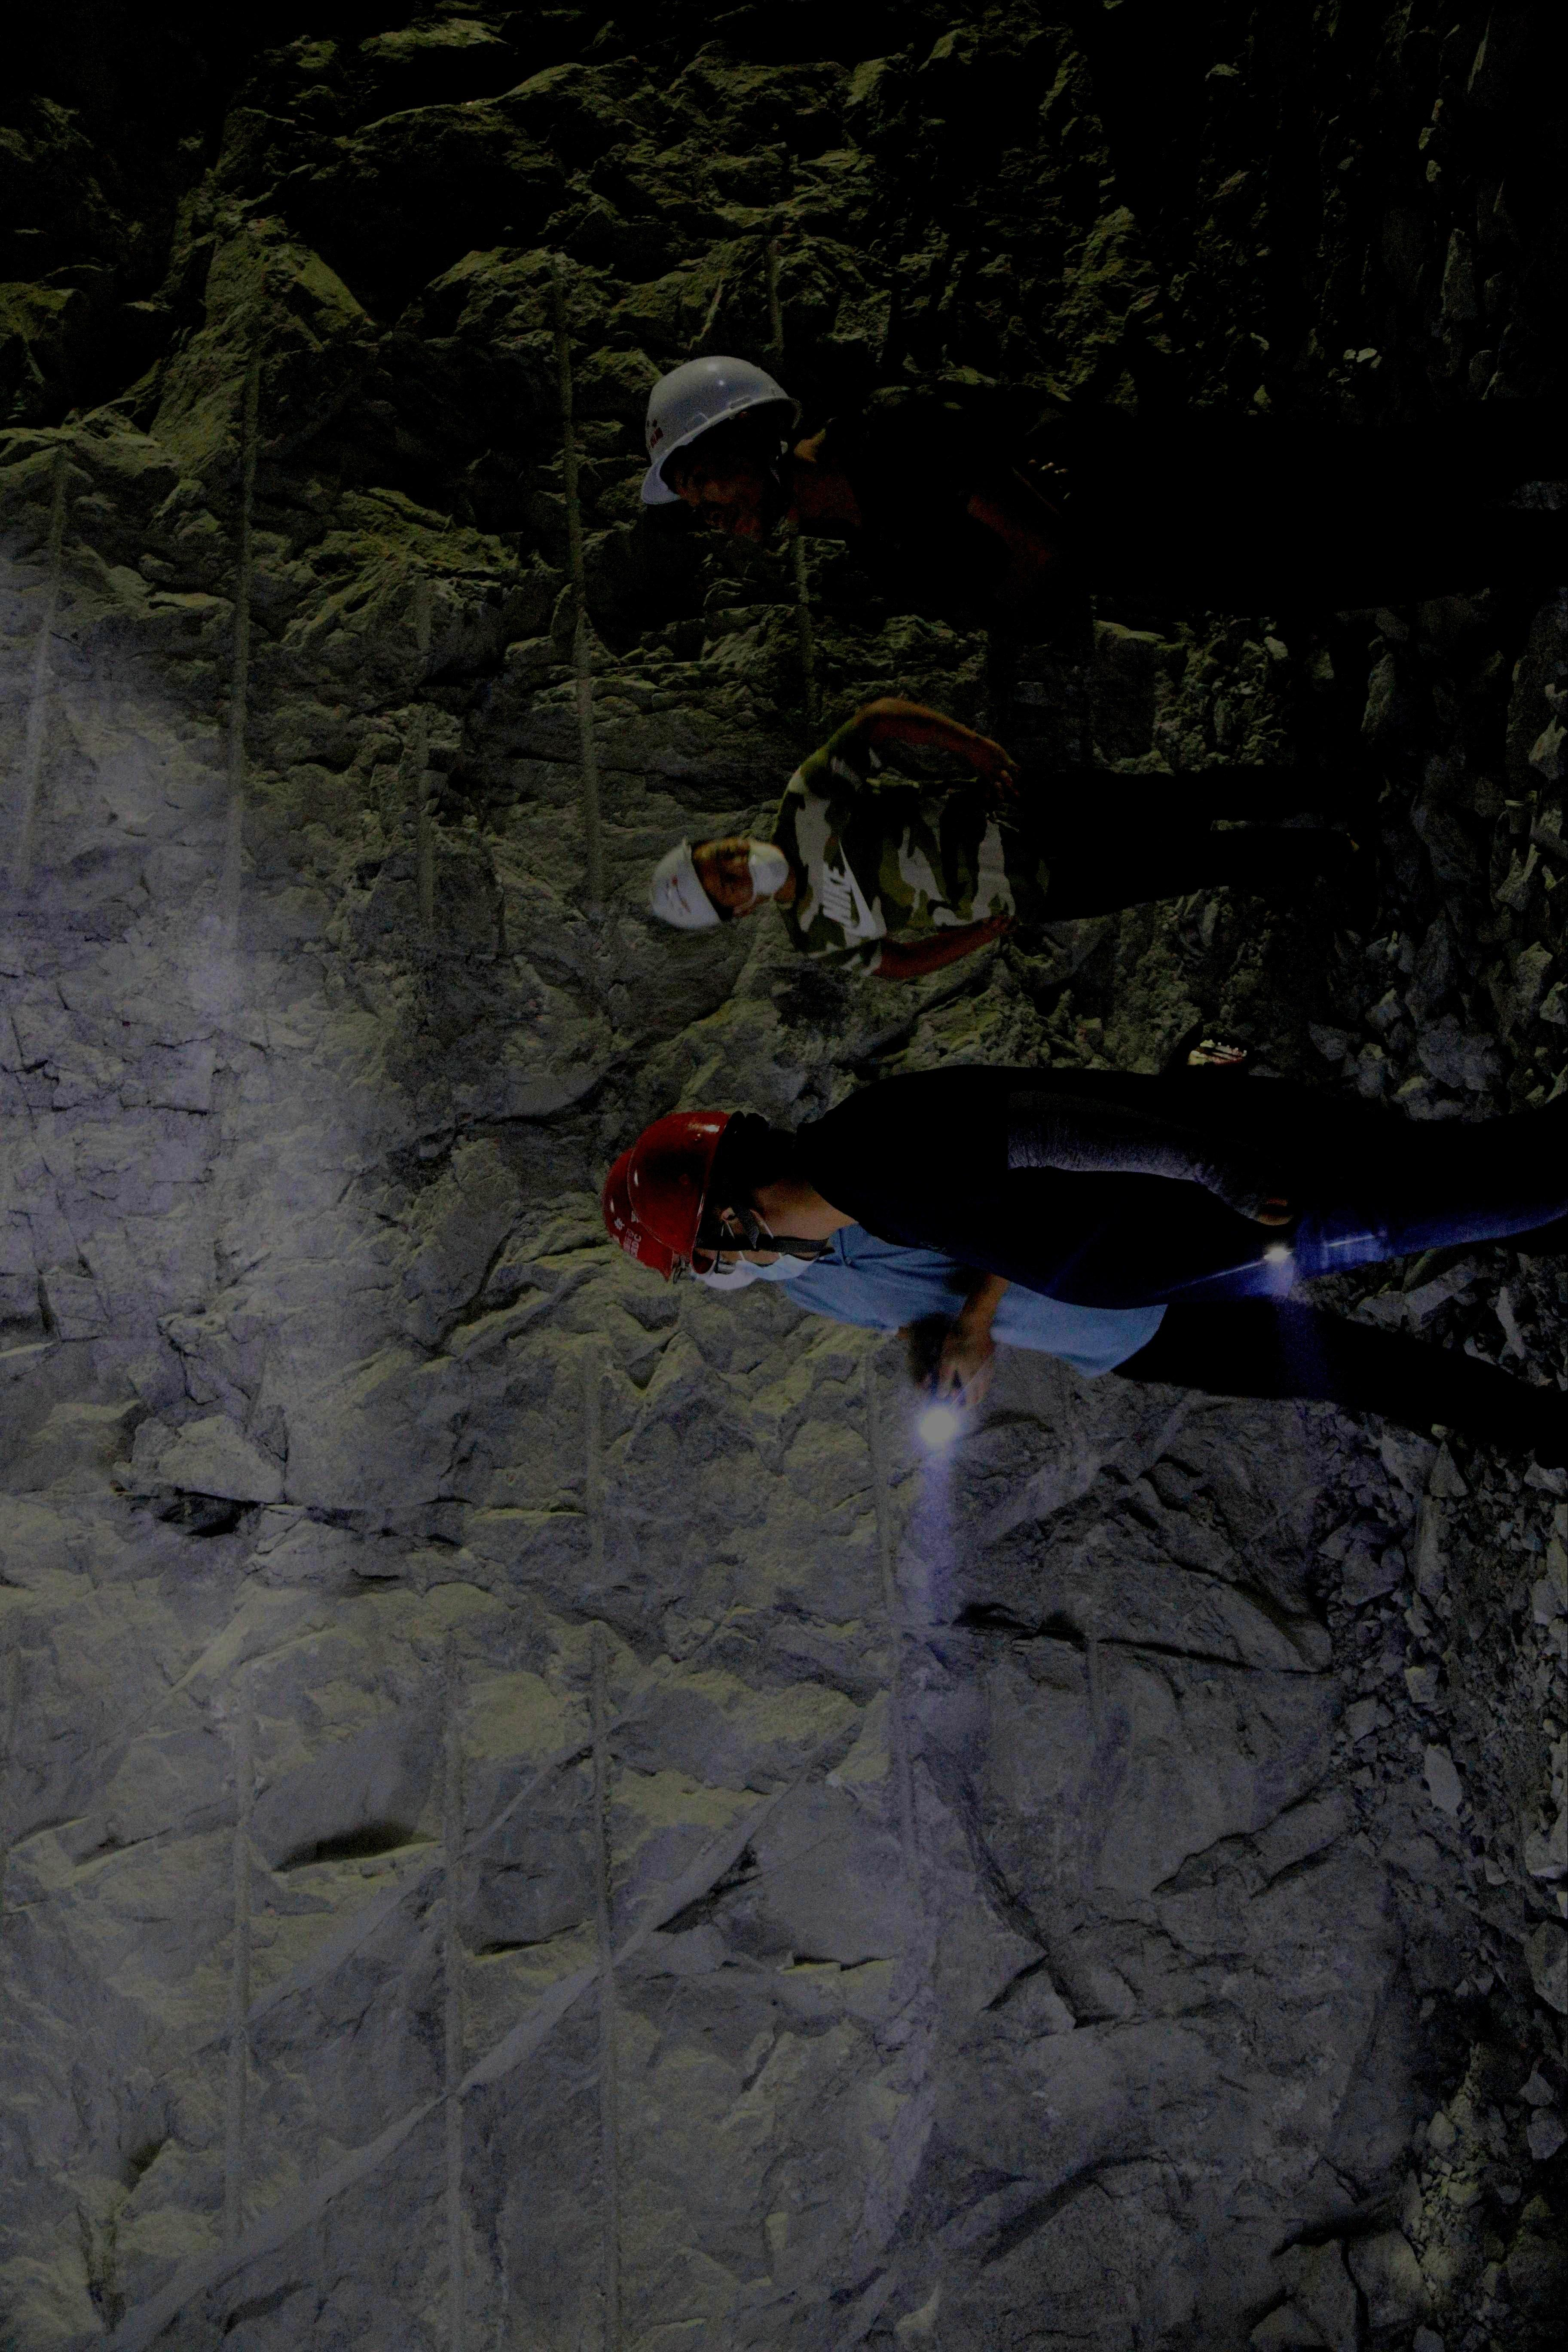helmet: (627, 1108, 828, 1281), (641, 355, 801, 546), (600, 1146, 758, 1290), (646, 833, 789, 931)
